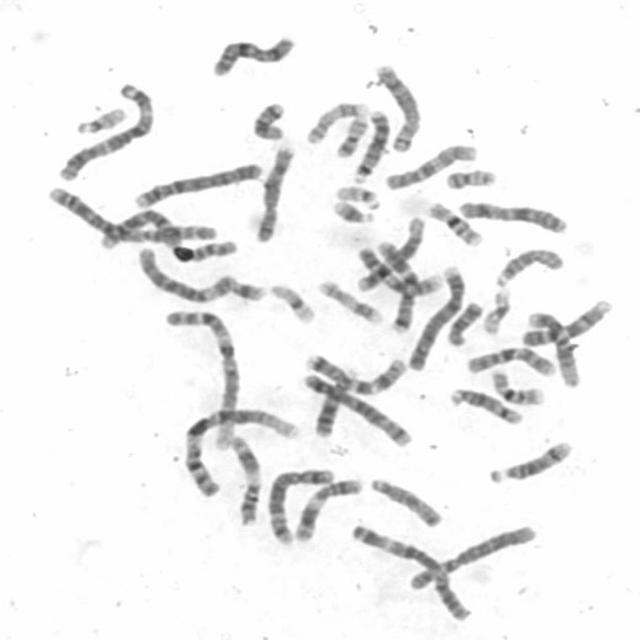A1: (162, 308, 246, 455), (177, 404, 308, 498)
A2: (42, 186, 223, 243), (97, 208, 240, 262)
A3: (350, 523, 475, 625), (53, 84, 157, 182)
B4: (405, 265, 467, 373), (133, 161, 264, 209)
B5: (300, 372, 416, 448), (264, 467, 334, 546)
C10: (384, 142, 481, 191), (465, 344, 559, 380)
C11: (293, 478, 364, 542), (228, 434, 264, 526)
C12: (354, 216, 428, 294), (525, 310, 581, 388)
C6: (410, 524, 536, 592), (134, 248, 233, 303)
C7: (306, 351, 408, 398), (374, 239, 420, 334)
C8: (374, 62, 424, 153), (254, 145, 296, 245)
C9: (358, 244, 447, 298), (519, 298, 611, 348)
D13: (312, 366, 363, 438), (350, 110, 391, 186)
D14: (488, 442, 574, 486), (449, 387, 525, 427)
D15: (367, 476, 444, 530), (496, 246, 568, 288)
E16: (428, 201, 487, 250), (489, 370, 548, 407)
E17: (316, 277, 383, 324), (305, 100, 370, 146)
E18: (446, 302, 485, 348), (251, 101, 286, 141)
F19: (268, 283, 318, 326), (479, 289, 513, 336)
F20: (336, 115, 368, 158), (444, 168, 499, 190)
G21: (332, 200, 378, 225), (226, 276, 266, 302)
G22: (73, 106, 126, 136), (336, 184, 382, 210)
X: (458, 198, 570, 236), (210, 34, 303, 76)
